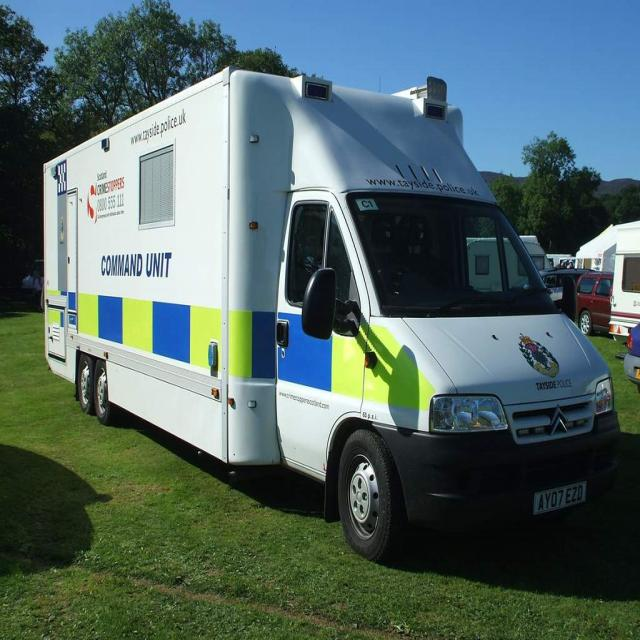Ambulance: (42, 64, 627, 564)
